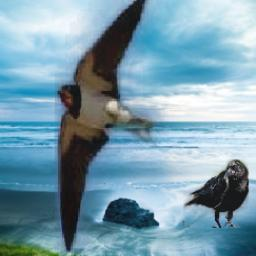Crow: (183, 161, 249, 229)
Swallow: (55, 0, 196, 254)
